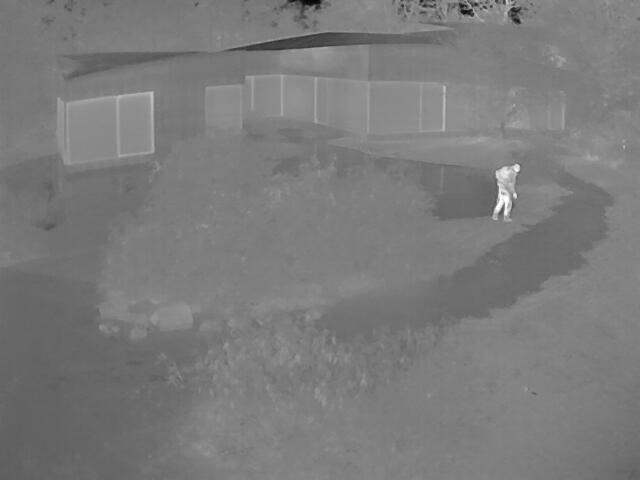person: (491, 162, 519, 222)
